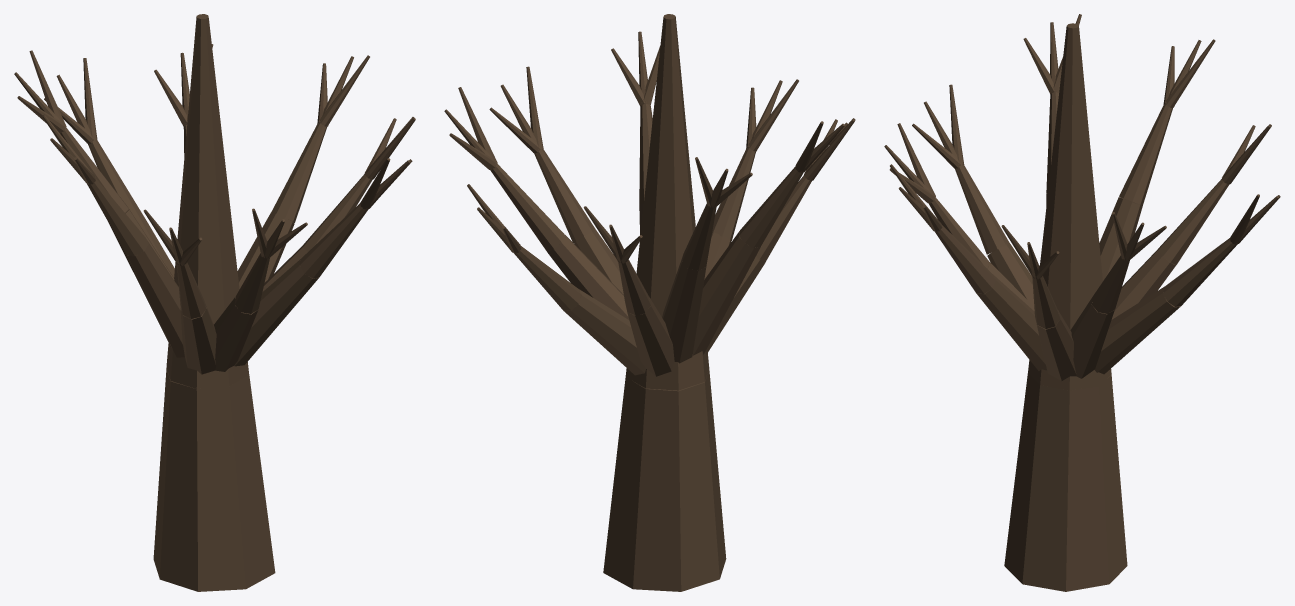
Rendered from oak_ancient_winter_2.glb.
3 renders of one model, left to right at view 1: azimuth 30°, elevation 25°; view 2: azimuth 150°, elevation 25°; view 3: azimuth 270°, elevation 25°, orthographic. The views are drawn at different scales.
Visible parts, largest first — view 1: oak_ancient_winter_2; view 2: oak_ancient_winter_2; view 3: oak_ancient_winter_2.
Boxes of the visible parts, left/top/right/bottom form: oak_ancient_winter_2: left=14, top=14, right=415, bottom=591; oak_ancient_winter_2: left=444, top=14, right=855, bottom=591; oak_ancient_winter_2: left=884, top=14, right=1280, bottom=591.
Bounding box in the file's own units: 15.49 × 23.04 × 15.44.
